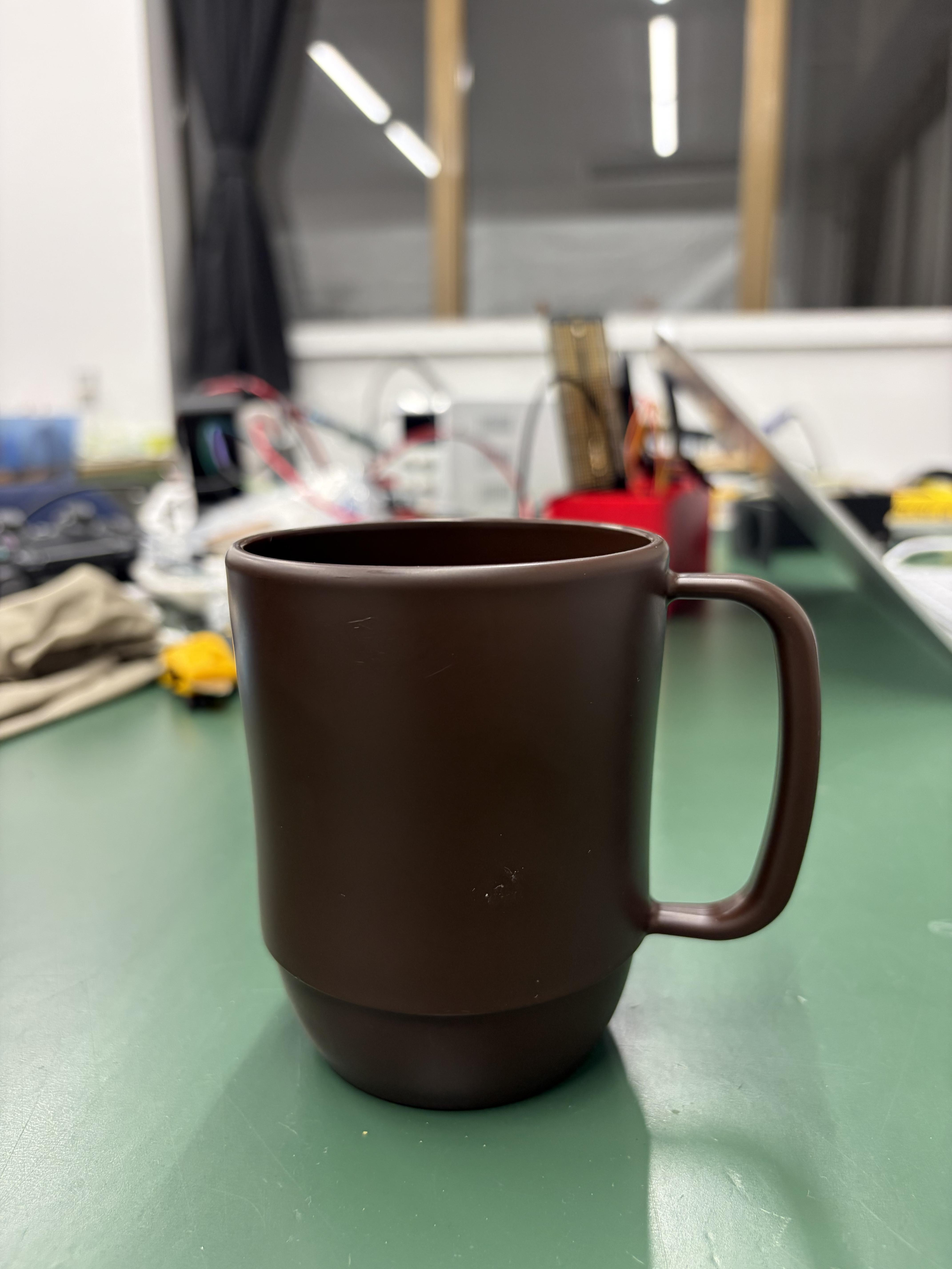mug-real100-3d100: (226, 520, 820, 1109)
